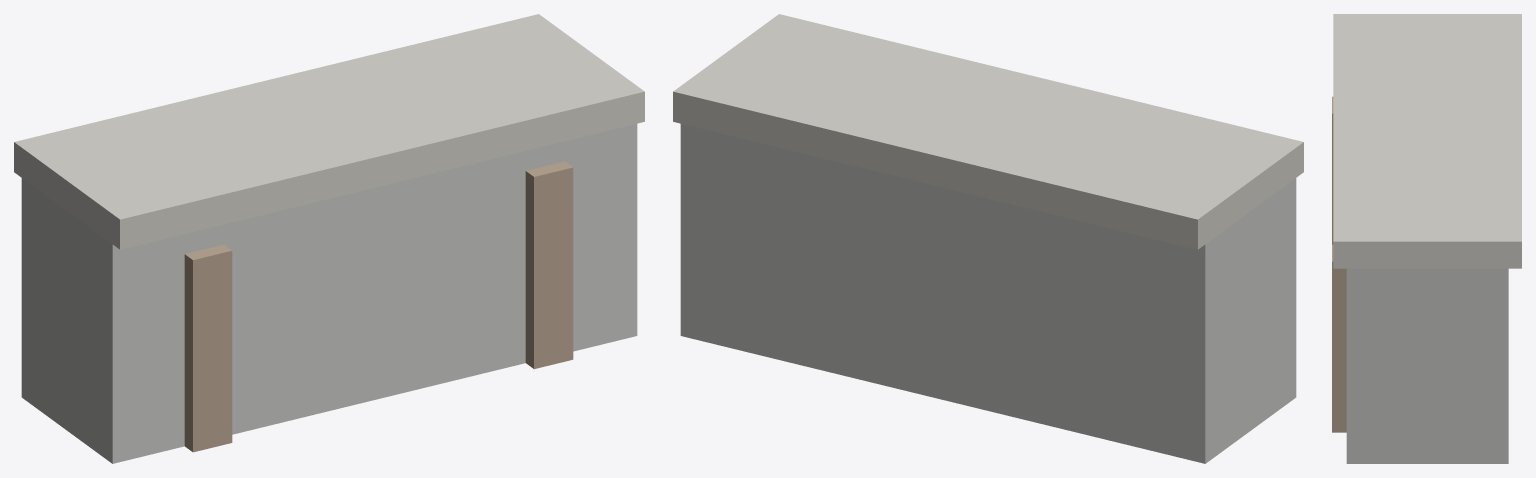
The model's file is quay_edge.lod1.glb.
3 renders of one model, left to right at view 1: azimuth 30°, elevation 25°; view 2: azimuth 150°, elevation 25°; view 3: azimuth 270°, elevation 25°, orthographic. The views are drawn at different scales.
Parts seen in each view (by area): view 1: props_quay_edge; view 2: props_quay_edge; view 3: props_quay_edge.
Part boxes in pixels (x1=…): props_quay_edge: x1=14, y1=14, x2=644, y2=463; props_quay_edge: x1=673, y1=14, x2=1303, y2=463; props_quay_edge: x1=1332, y1=14, x2=1521, y2=463.
Size of the model in its own units: 4 by 1.82 by 1.41.
